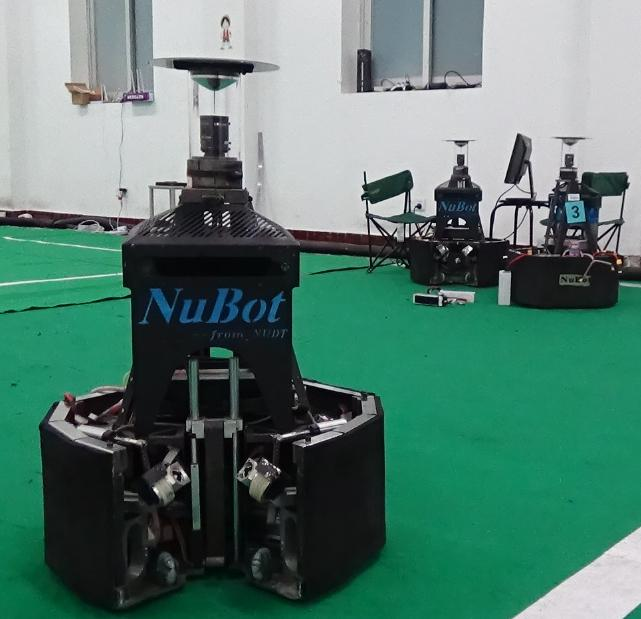robot: (40, 49, 393, 612), (511, 134, 621, 311), (410, 133, 511, 291)
